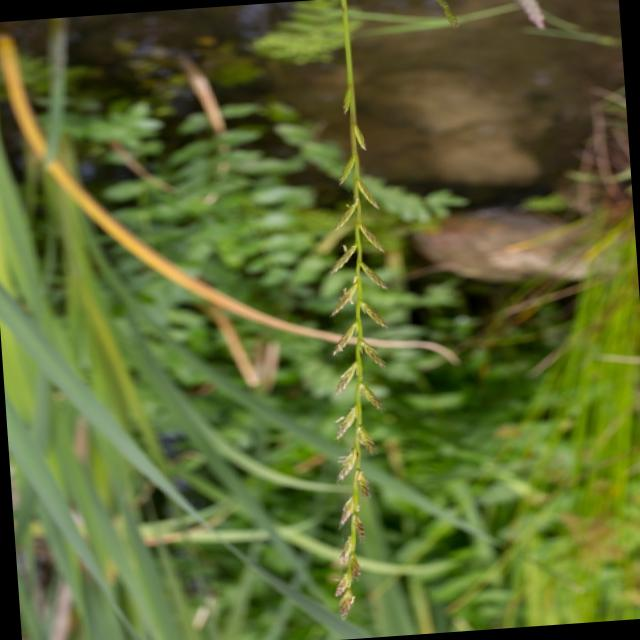Lolium: (286, 0, 417, 622)
